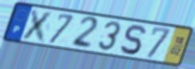2: (70, 16, 100, 49)
3: (96, 20, 122, 52)
7: (146, 25, 173, 60), (48, 13, 76, 45)
S: (119, 23, 147, 56)
X: (19, 8, 57, 45)
